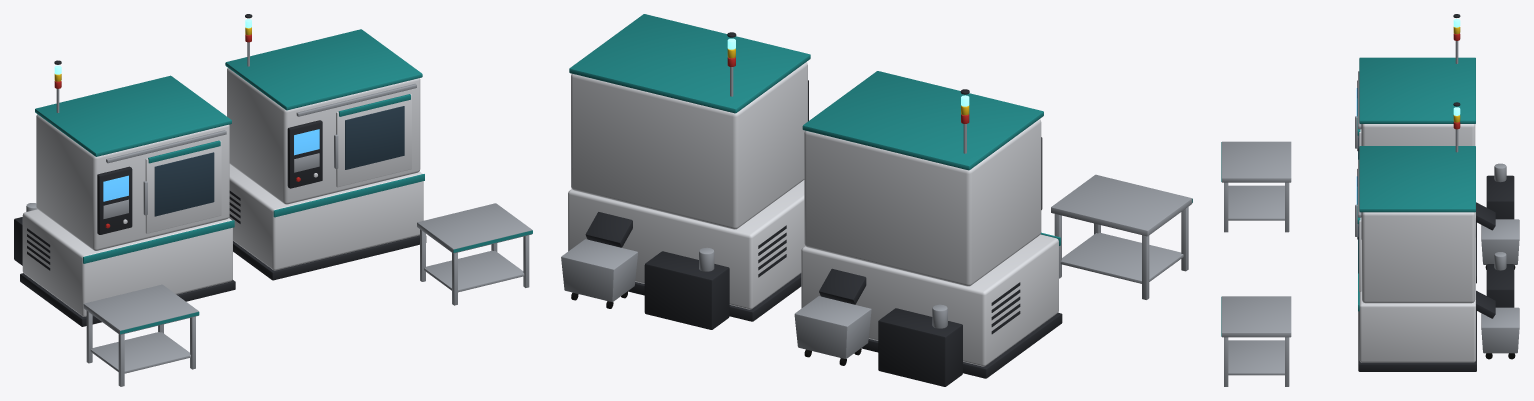
The model's file is Station_CncLathePair.fbx.
3 renders of one model, left to right at view 1: azimuth 30°, elevation 25°; view 2: azimuth 150°, elevation 25°; view 3: azimuth 270°, elevation 25°, orthographic. The views are drawn at different scales.
Visible parts, largest first — view 1: Lathe 2, Lathe 1, Inbound Table, Outbound Table; view 2: Lathe 2, Lathe 1, Inbound Table; view 3: Lathe 1, Lathe 2, Inbound Table, Outbound Table.
Part boxes in pixels (x1,y1,x2,y2): Lathe 2: (14, 60, 235, 326); Lathe 1: (225, 14, 426, 280); Inbound Table: (83, 284, 199, 386); Outbound Table: (417, 203, 532, 305); Lathe 2: (794, 71, 1062, 386); Lathe 1: (561, 14, 810, 329); Inbound Table: (1051, 174, 1192, 299); Lathe 1: (1355, 102, 1519, 371); Lathe 2: (1355, 14, 1519, 283); Inbound Table: (1221, 141, 1291, 232); Outbound Table: (1221, 296, 1291, 386).
Size of the model in its own units: 5.2 by 2.66 by 3.42.
